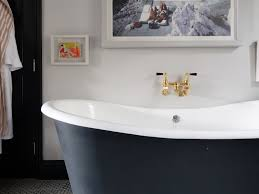bathub: (39, 91, 259, 194)
